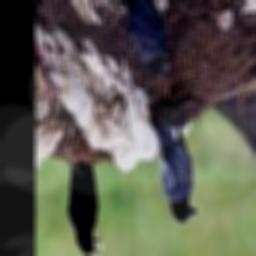Crow: (154, 123, 198, 223), (113, 0, 170, 77), (68, 162, 102, 255)
